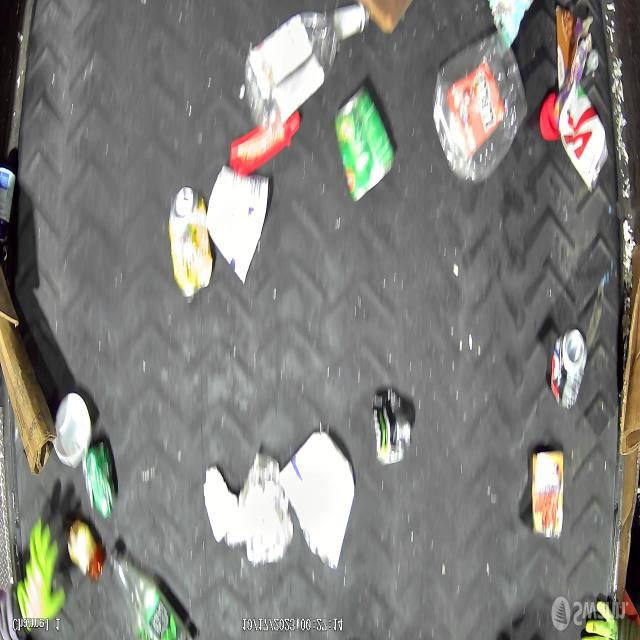can: (336, 86, 396, 200), (166, 185, 212, 301), (532, 446, 565, 540), (550, 324, 586, 410), (81, 440, 118, 518)
plastic_bottle: (239, 3, 371, 126), (109, 546, 194, 640)
